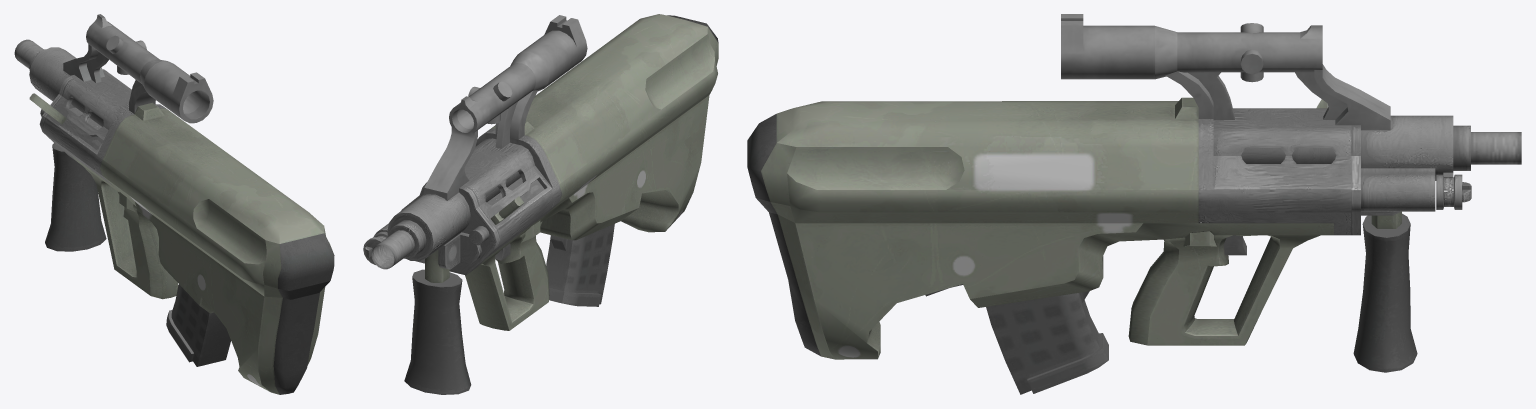
Rendered from IG_Gun_AUGA1.fbx.
3 renders of one model, left to right at view 1: azimuth 30°, elevation 25°; view 2: azimuth 150°, elevation 25°; view 3: azimuth 270°, elevation 25°, orthographic. The views are drawn at different scales.
Visible parts, largest first — view 1: WPN_AUGA1; view 2: WPN_AUGA1; view 3: WPN_AUGA1.
Part boxes in pixels (bbox=[...]): WPN_AUGA1: bbox=[14, 14, 334, 394]; WPN_AUGA1: bbox=[363, 14, 718, 394]; WPN_AUGA1: bbox=[747, 14, 1521, 394].
Size of the model in its own units: 0.1975 by 0.4846 by 0.9294.
